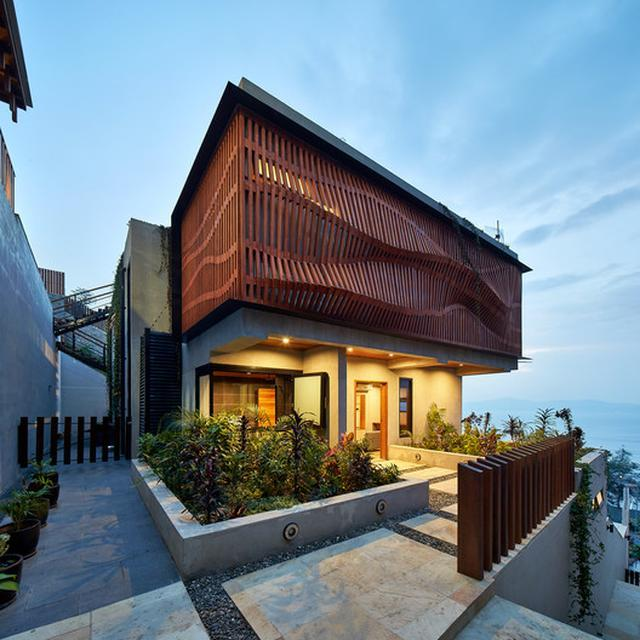building: (117, 74, 527, 465)
